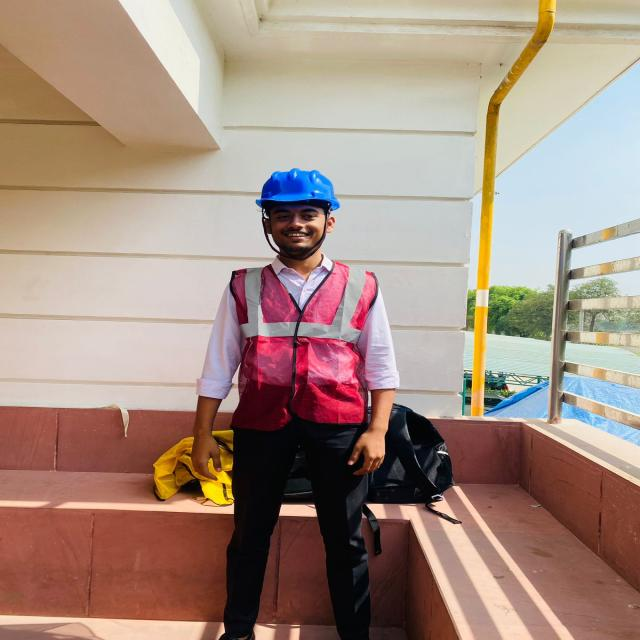safe: (198, 168, 396, 640)
